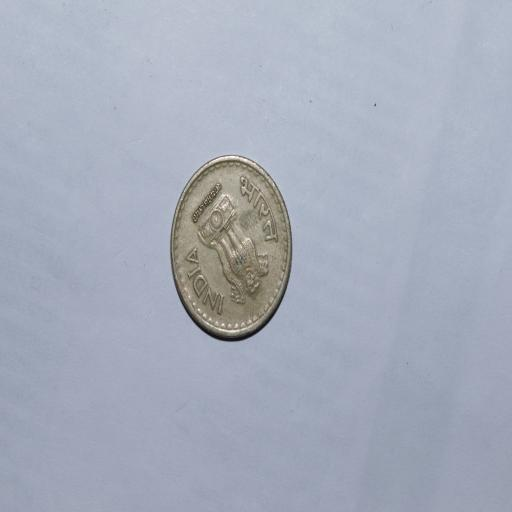rupee5: (168, 150, 297, 344)
